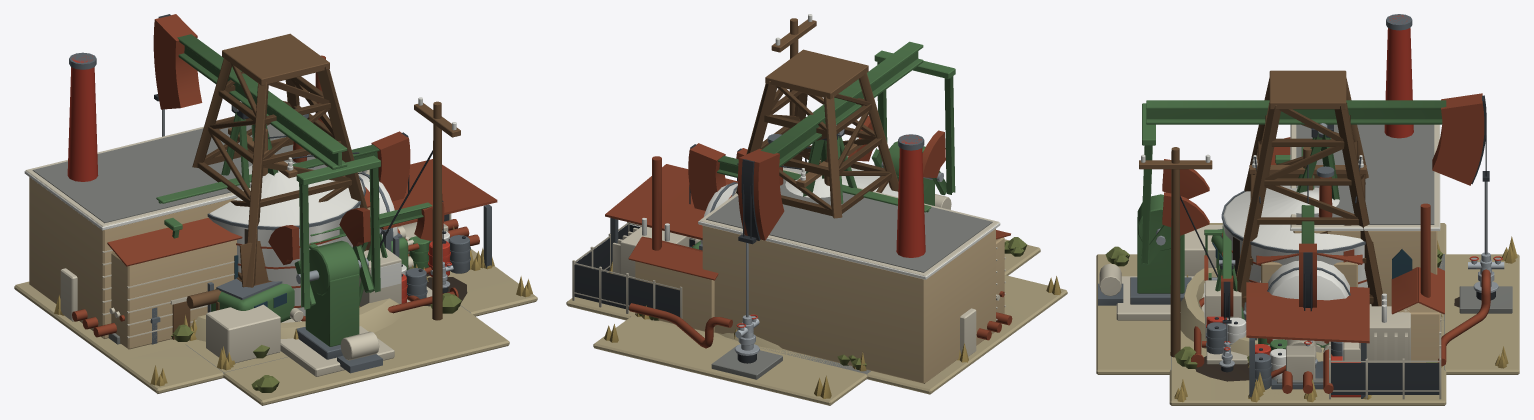
File: buildings.glb
3 renders of one model, left to right at view 1: azimuth 30°, elevation 25°; view 2: azimuth 150°, elevation 25°; view 3: azimuth 270°, elevation 25°, orthographic. The views are drawn at different scales.
Parts seen in each view (by area): view 1: bld_2x3_a, bld_3x2_a, bld_2x2_a, bld_3x1_c, bld_2x2_b, bld_3x1_b, bld_2x2_e, bld_3x1_a, bld_2x2_f, bld_3x1_d, bld_2x1_a, bld_1x1_b; view 2: bld_3x2_a, bld_2x3_a, bld_2x2_a, bld_3x1_c, bld_3x1_b, bld_2x2_b, bld_3x1_a, bld_1x1_b, bld_2x1_a; view 3: bld_2x3_a, bld_3x2_a, bld_2x2_a, bld_3x1_c, bld_2x2_b, bld_3x1_a, bld_3x1_b, bld_2x1_a, bld_2x2_e, bld_3x1_d, bld_2x2_f, bld_1x1_b.
Boxes of the visible parts, x1,y1,x2,y2 form: bld_2x3_a: [153, 14, 509, 405]; bld_3x2_a: [14, 52, 537, 393]; bld_2x2_a: [186, 33, 461, 372]; bld_3x1_c: [54, 108, 497, 349]; bld_2x2_b: [195, 161, 408, 370]; bld_3x1_b: [60, 131, 431, 343]; bld_2x2_e: [186, 287, 470, 377]; bld_3x1_a: [52, 219, 484, 364]; bld_2x2_f: [211, 264, 427, 322]; bld_3x1_d: [109, 231, 494, 344]; bld_2x1_a: [183, 172, 413, 343]; bld_1x1_b: [228, 127, 359, 178]; bld_3x2_a: [566, 134, 1067, 394]; bld_2x3_a: [593, 14, 1040, 405]; bld_2x2_a: [628, 49, 898, 369]; bld_3x1_c: [605, 134, 1010, 362]; bld_3x1_b: [608, 143, 976, 356]; bld_2x2_b: [635, 165, 898, 371]; bld_3x1_a: [607, 272, 1020, 364]; bld_1x1_b: [737, 137, 862, 187]; bld_2x1_a: [700, 182, 737, 244]; bld_2x3_a: [1096, 93, 1519, 374]; bld_3x2_a: [1169, 14, 1446, 405]; bld_2x2_a: [1174, 70, 1444, 368]; bld_3x1_c: [1246, 137, 1369, 402]; bld_2x2_b: [1180, 185, 1442, 367]; bld_3x1_a: [1245, 342, 1370, 405]; bld_3x1_b: [1271, 147, 1371, 399]; bld_2x1_a: [1248, 260, 1350, 364]; bld_2x2_e: [1170, 225, 1445, 370]; bld_3x1_d: [1248, 338, 1360, 402]; bld_2x2_f: [1206, 229, 1437, 362]; bld_1x1_b: [1249, 147, 1366, 203].
Size of the model in its own units: 2.88 by 1.73 by 2.88.
